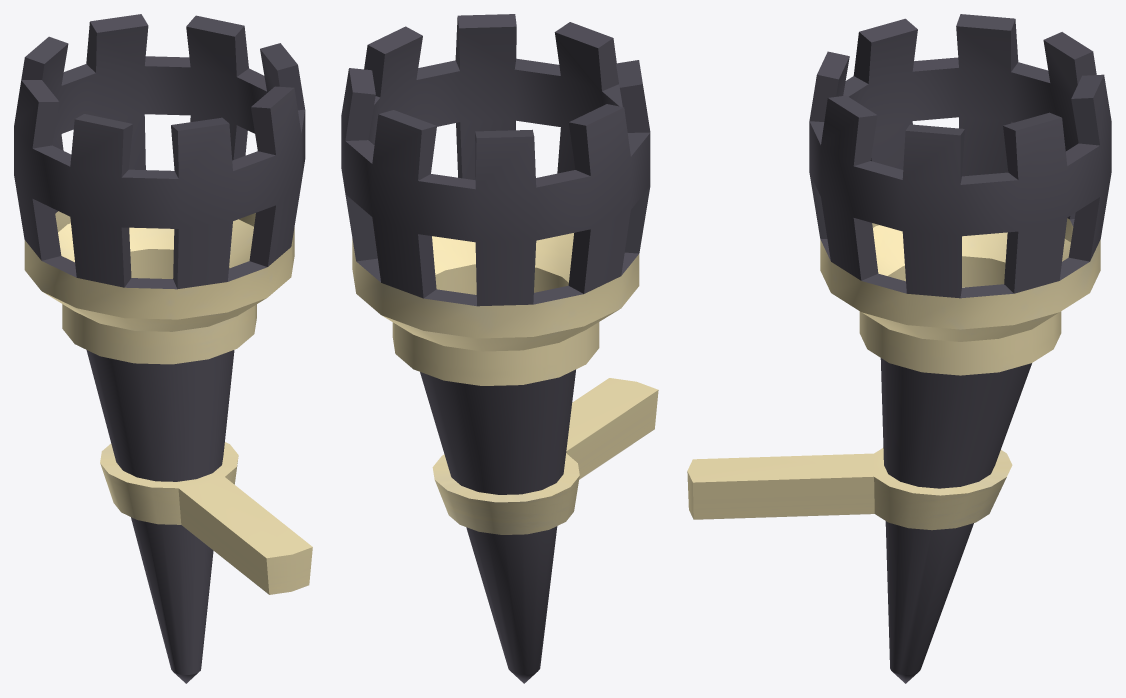
File: TorchGreek.fbx
3 views of the same model, side by side, from view 1: azimuth 30°, elevation 25°; view 2: azimuth 150°, elevation 25°; view 3: azimuth 270°, elevation 25° (orthographic). The views are drawn at different scales.
Parts seen in each view (by area): view 1: Circle; view 2: Circle; view 3: Circle.
Part boxes in pixels (x1=…): Circle: x1=14, y1=14, x2=312, y2=683; Circle: x1=341, y1=14, x2=658, y2=683; Circle: x1=687, y1=14, x2=1111, y2=683.
Size of the model in its own units: 200 by 445 by 281.
Materials: 1 (1 with a texture image).
